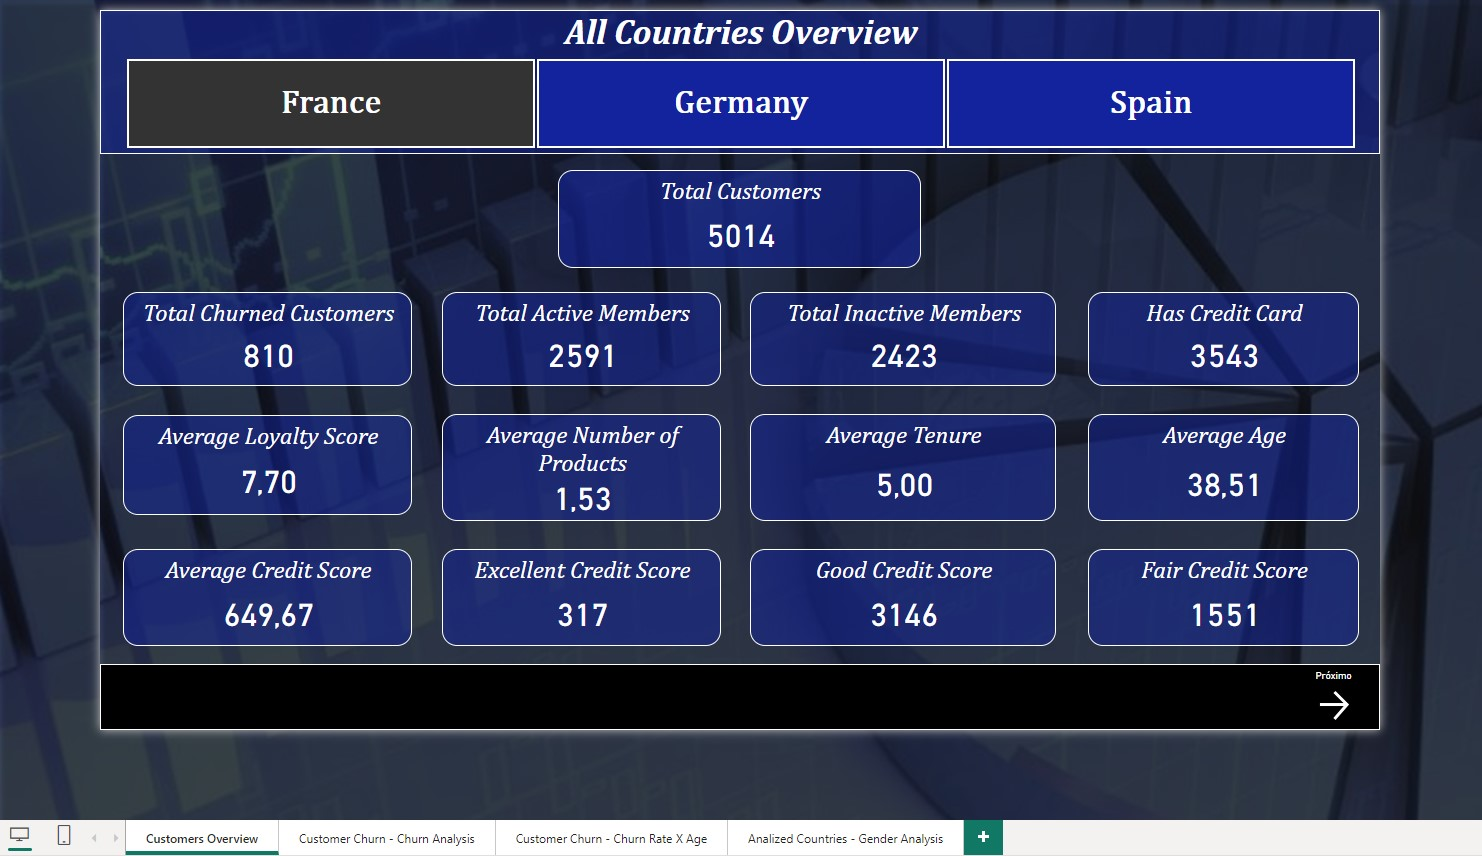

This screenshot's page, from the dashboard's own definition file:
{"tool":"powerbi","page":{"name":"Customers Overview","canvas":[1280,720],"ordinal":0},"visuals":[{"type":"shape","box":[0,653.6,1280,66.4],"z":0},{"type":"slicer","title":"All Countries Overview","fields":{"Values":["Customer Churn Classification c.Geography"]},"box":[0,0,1280,144],"z":1000},{"type":"card","title":"Has Credit Card","fields":{"Values":["Sum(Customer Churn csv.HasCrCard)"]},"box":[987.8,281.9,271.3,94],"z":2000},{"type":"card","title":"Average Credit Score","fields":{"Values":["Customer Churn csv.AverageCreditScore"]},"box":[22.8,539.1,288.9,96.6],"z":3000},{"type":"card","title":"Average Number of Products","fields":{"Values":["Customer Churn csv.AverageNumberOfProducts"]},"box":[342.4,403.9,278.3,107.1],"z":4000},{"type":"card","title":"Average Tenure","fields":{"Values":["Customer Churn csv.AverageTenure"]},"box":[649.8,403.9,306.4,107.1],"z":5000},{"type":"card","title":"Average Loyalty Score","fields":{"Values":["Customer Churn.AverageLoyaltyScore"]},"box":[22.8,404.8,288.9,100.1],"z":6000},{"type":"card","title":"Average Age","fields":{"Values":["Customer Churn.AverageAge"]},"box":[987.8,403.9,271.3,107.1],"z":7000},{"type":"card","title":"Total Churned Customers","fields":{"Values":["Sum(Customer Churn.Exited)"]},"box":[22.8,281.9,288.9,94],"z":8000},{"type":"card","title":"Total Active Members","fields":{"Values":["Sum(Customer Churn csv.IsActiveMember)"]},"box":[342.4,281.9,278.3,94],"z":9000},{"type":"card","title":"Total Inactive Members","fields":{"Values":["Customer Churn.Total Inactive Members"]},"box":[649.8,281.9,306.4,94],"z":10000},{"type":"card","title":"Excellent Credit Score","fields":{"Values":["Customer Churn Classification.CountExcellent"]},"box":[342.4,539.1,278.3,96.6],"z":11000},{"type":"card","title":"Fair Credit Score","fields":{"Values":["Customer Churn Classification.CountFair"]},"box":[987.8,539.1,271.3,96.6],"z":12000},{"type":"card","title":"Good Credit Score","fields":{"Values":["Customer Churn Classification.CountGood"]},"box":[649.8,539.1,306.4,96.6],"z":13000},{"type":"actionButton","title":"Próximo","box":[1196.4,660,74.5,54.5],"z":14000},{"type":"card","title":"Total Customers","fields":{"Values":["CountNonNull(Customer Churn.CustomerId)"]},"box":[457.8,160,363.5,98],"z":15000}]}

Visuals, with their boxes on the page's 1280x720 design canvas (x1, y1, x2, y2). These are canvas units, not pixel positions in the 1482x856 screenshot, which may show the page scaled, cropped or inside an application window:
shape: box=[0, 654, 1280, 720]
"All Countries Overview" slicer: box=[0, 0, 1280, 144]
"Has Credit Card" card: box=[988, 282, 1259, 376]
"Average Credit Score" card: box=[23, 539, 312, 636]
"Average Number of Products" card: box=[342, 404, 621, 511]
"Average Tenure" card: box=[650, 404, 956, 511]
"Average Loyalty Score" card: box=[23, 405, 312, 505]
"Average Age" card: box=[988, 404, 1259, 511]
"Total Churned Customers" card: box=[23, 282, 312, 376]
"Total Active Members" card: box=[342, 282, 621, 376]
"Total Inactive Members" card: box=[650, 282, 956, 376]
"Excellent Credit Score" card: box=[342, 539, 621, 636]
"Fair Credit Score" card: box=[988, 539, 1259, 636]
"Good Credit Score" card: box=[650, 539, 956, 636]
"Próximo" actionButton: box=[1196, 660, 1271, 714]
"Total Customers" card: box=[458, 160, 821, 258]
